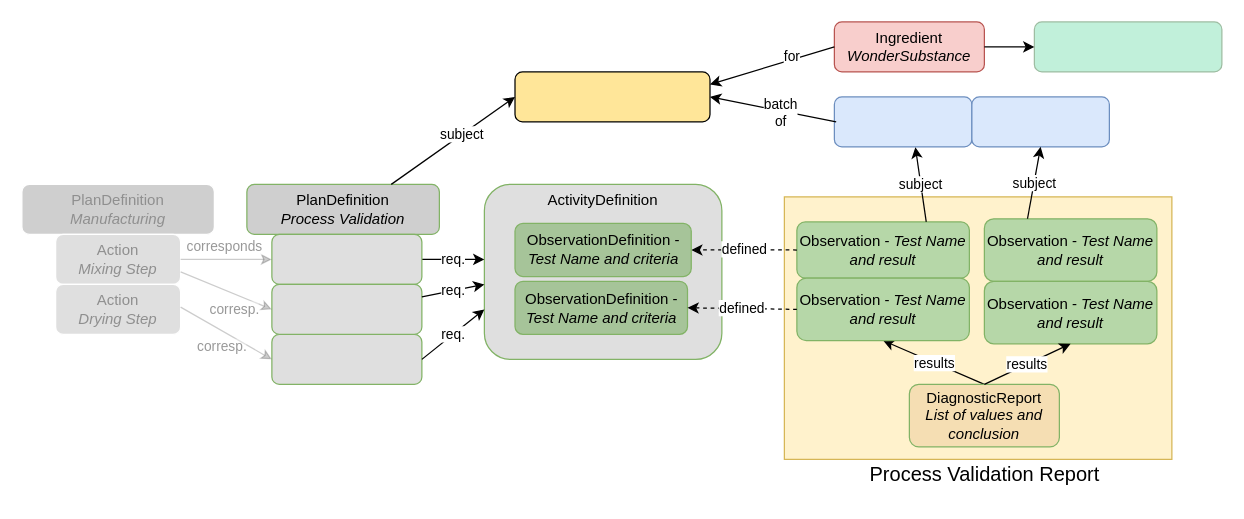
Image size: 1244x519. Some labels were removed from this diagram. The shapes that lost their labels are listed below. From the top down, each one's centre as x and y in pixels, then its label:
At point 1127,46: "SubstanceDefinition WonderSubstance".
At point 612,96: "MedicinalProductDefintion WonderDrug".
At point 902,121: "Medication Batch 1".
At point 1040,121: "Medication Batch 2".
At point 346,258: "Action Mixing Validation A".
At point 346,308: "Action Mixing Validation B".
At point 346,358: "Action Drying Validation".
